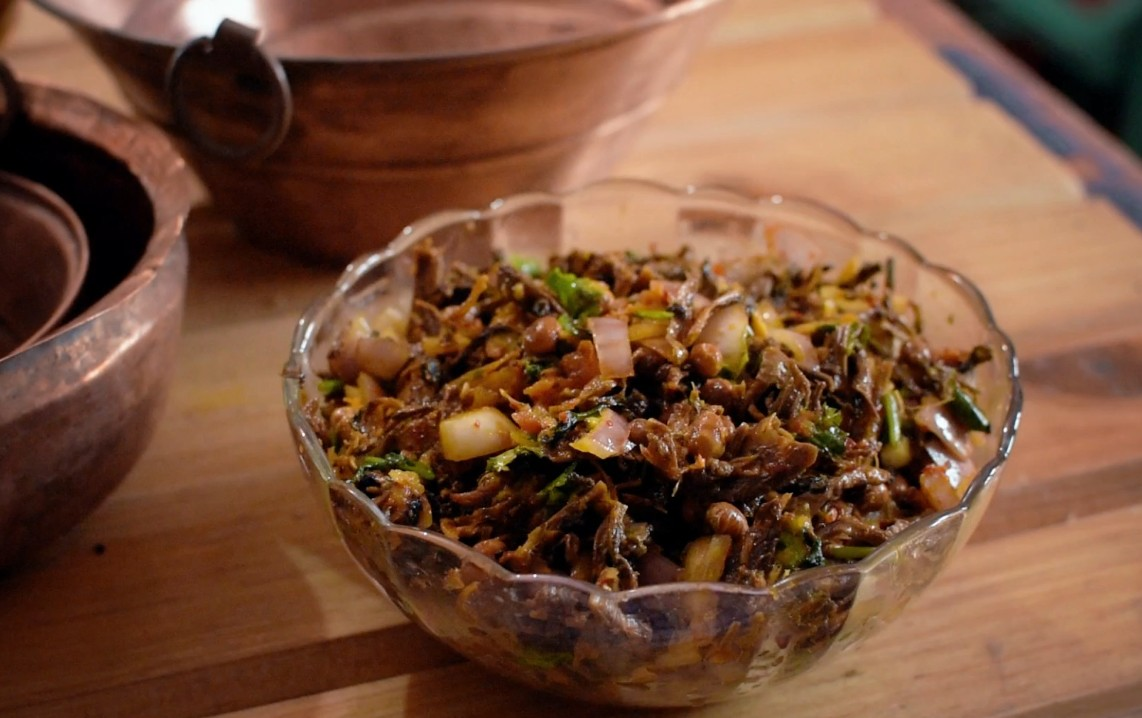gundruk: (370, 243, 935, 572)
